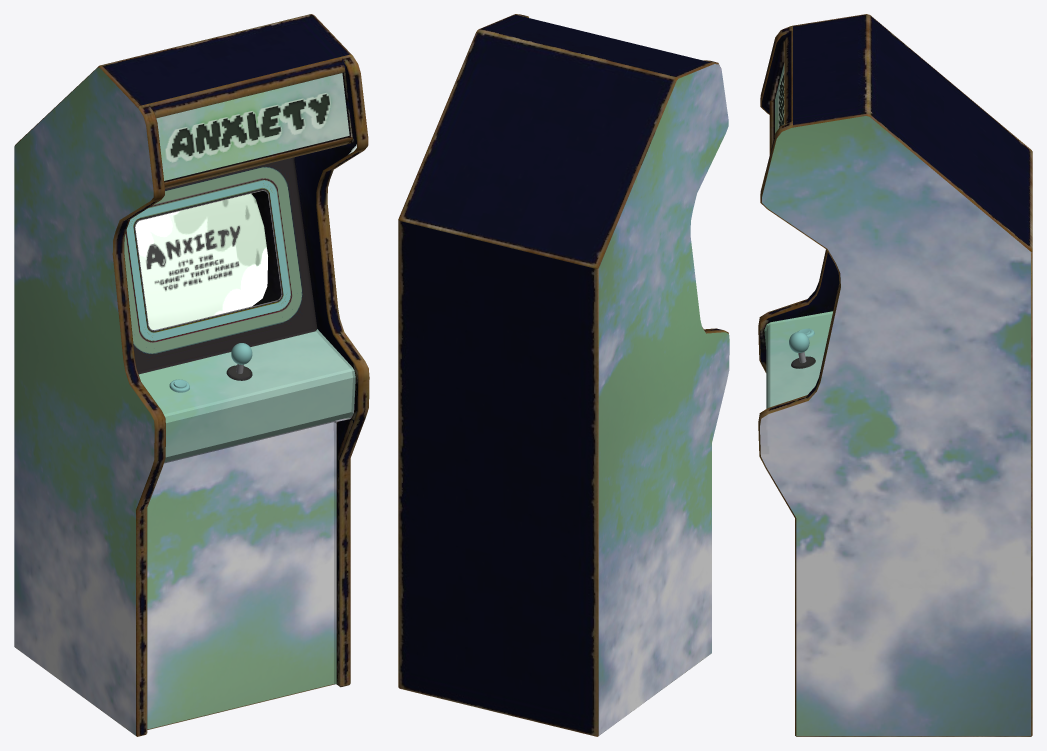
The model's file is anxiety.gltf.
3 renders of one model, left to right at view 1: azimuth 30°, elevation 25°; view 2: azimuth 150°, elevation 25°; view 3: azimuth 270°, elevation 25°, orthographic. The views are drawn at different scales.
Visible parts, largest first — view 1: Arcade.003, Arcade.004, Arcade.005; view 2: Arcade.004, Arcade.003; view 3: Arcade.003, Arcade.004, Arcade.005.
Boxes of the visible parts, x1,y1,x2,y2 form: Arcade.003: (14, 67, 355, 735); Arcade.004: (15, 14, 369, 736); Arcade.005: (124, 157, 317, 392); Arcade.004: (398, 14, 728, 736); Arcade.003: (598, 64, 729, 735); Arcade.003: (760, 63, 1030, 736); Arcade.004: (758, 14, 1032, 736); Arcade.005: (789, 328, 815, 368).
Bounding box in the file's own units: 0.6512 × 1.87 × 0.7448.
4 materials, 4 textured.
